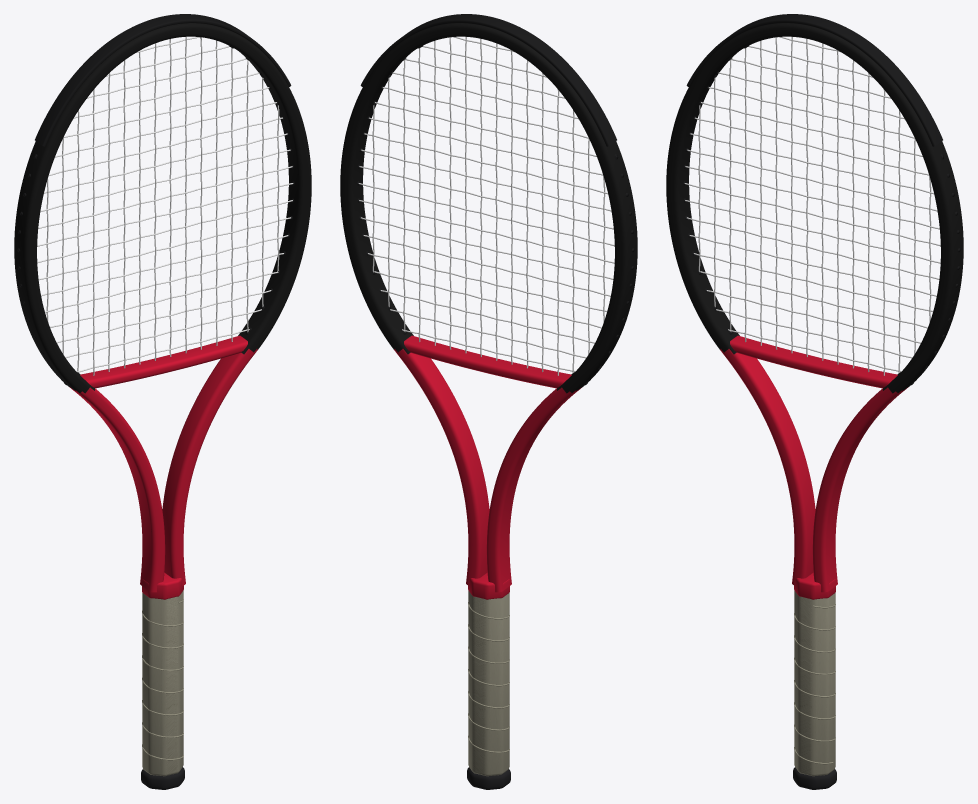
Rendered from dunlop-cx-200-2024.glb.
The picture shows the model from 3 angles, left to right: view 1: azimuth 30°, elevation 25°; view 2: azimuth 150°, elevation 25°; view 3: azimuth 330°, elevation 25°; orthographic projection.
Visible parts, largest first — view 1: Frame, Strings, Handle, Bumper, Yoke, GripSeam, Collar, ButtCap; view 2: Frame, Strings, Handle, Bumper, Yoke, Collar, GripSeam, ButtCap; view 3: Frame, Strings, Handle, Bumper, Yoke, GripSeam, Collar, ButtCap.
Boxes of the visible parts, <box> form: Frame: <box>14,23,311,592</box>; Strings: <box>37,36,293,375</box>; Handle: <box>142,590,183,776</box>; Bumper: <box>35,14,291,146</box>; Yoke: <box>80,335,247,388</box>; GripSeam: <box>142,599,183,760</box>; Collar: <box>142,572,183,599</box>; ButtCap: <box>141,767,184,789</box>; Frame: <box>340,23,637,592</box>; Strings: <box>358,36,614,375</box>; Handle: <box>468,590,509,776</box>; Bumper: <box>360,14,616,146</box>; Yoke: <box>404,335,571,388</box>; Collar: <box>468,572,509,599</box>; GripSeam: <box>468,602,509,752</box>; ButtCap: <box>467,767,510,789</box>; Frame: <box>666,23,963,592</box>; Strings: <box>684,36,940,375</box>; Handle: <box>794,590,835,776</box>; Bumper: <box>686,14,942,146</box>; Yoke: <box>730,335,897,388</box>; GripSeam: <box>794,604,835,764</box>; Collar: <box>794,572,835,599</box>; ButtCap: <box>793,767,836,789</box>.
Size of the model in its own units: 0.2733 by 0.6886 by 0.0327.
Materials: 6 (1 with a texture image).
